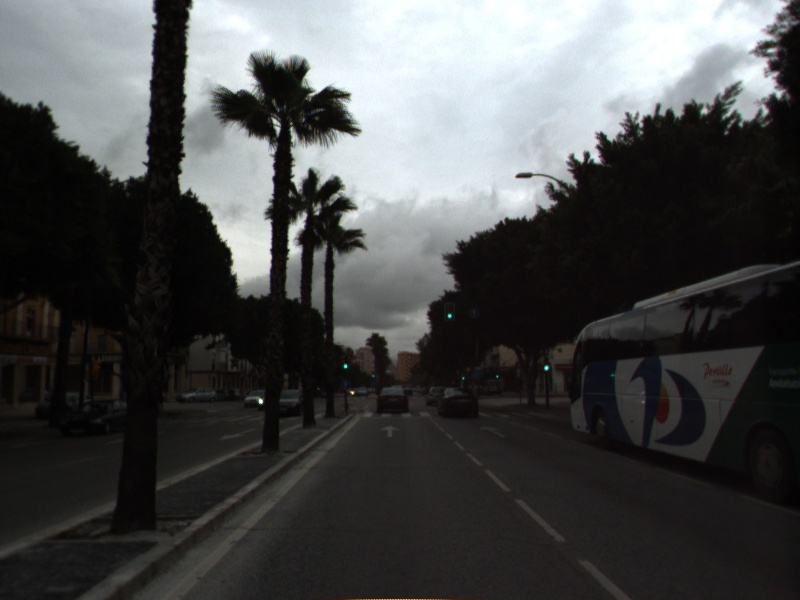STRAIGHT: (477, 422, 510, 440), (378, 423, 402, 439)
